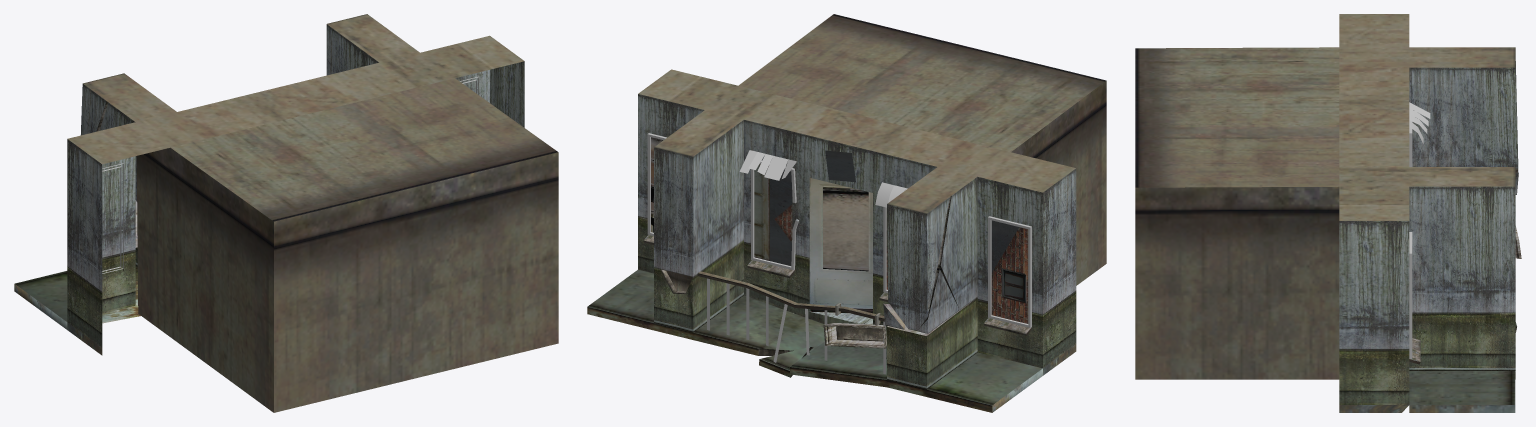
Rendered from Store_front_15_D.fbx.
3 renders of one model, left to right at view 1: azimuth 30°, elevation 25°; view 2: azimuth 150°, elevation 25°; view 3: azimuth 270°, elevation 25°, orthographic. The views are drawn at different scales.
Parts seen in each view (by area): view 1: Store_front_15_D; view 2: Store_front_15_D; view 3: Store_front_15_D.
Boxes of the visible parts, x1,y1,x2,y2 form: Store_front_15_D: (14,14,558,412); Store_front_15_D: (587,14,1106,412); Store_front_15_D: (1135,14,1521,412).
Bounding box in the file's own units: 700 × 328 × 552.
